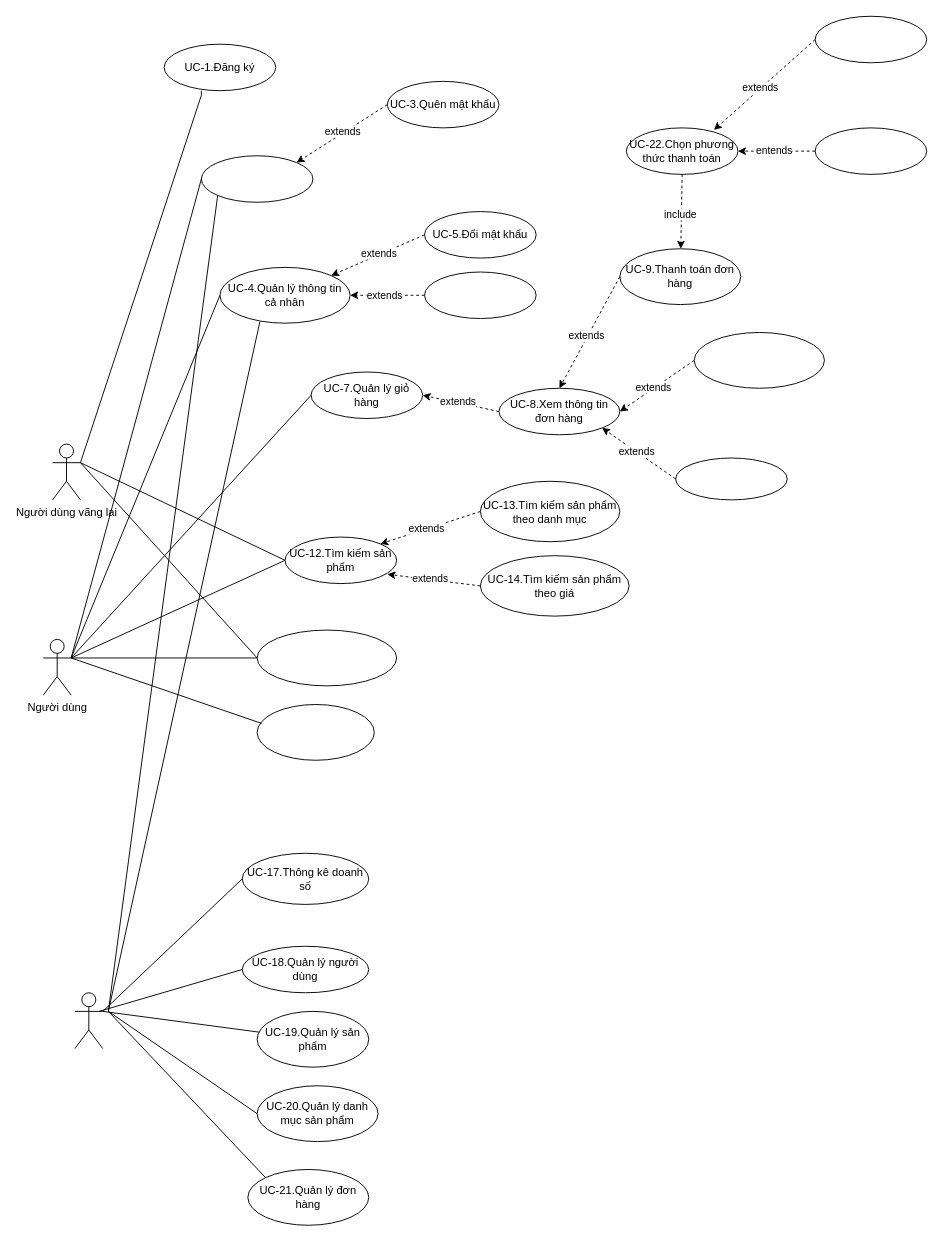
Some shapes in this 943 by 1242 pixel diagram are drawn without their labels. Each missing label, with the centre of its shape:
"Giao hàng" belongs at [870,39].
"Người quản trị" belongs at [88,1020].
"paypal" belongs at [870,150].
"UC-10.Chỉnh sửa đơn hàng" belongs at [758,360].
"UC-11.Hủy đơn hàng" belongs at [731,478].
"UC-15.Xem thông tin sản phẩm" belongs at [326,657].
"UC-16.Thêm sản phảm vào giỏ hàng" belongs at [315,732].
"UC-2.Đăng nhập" belongs at [256,178].
"UC-6.Đổi thông tin cá nhân" belongs at [480,295].
